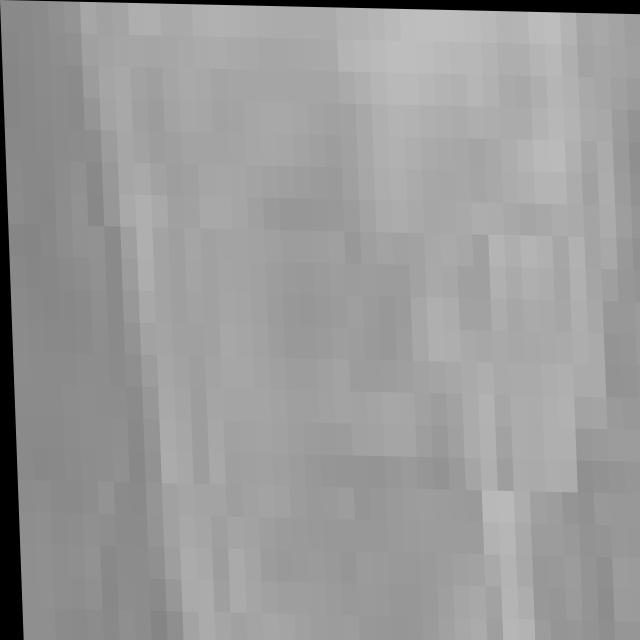fracture: (18, 0, 640, 640)
